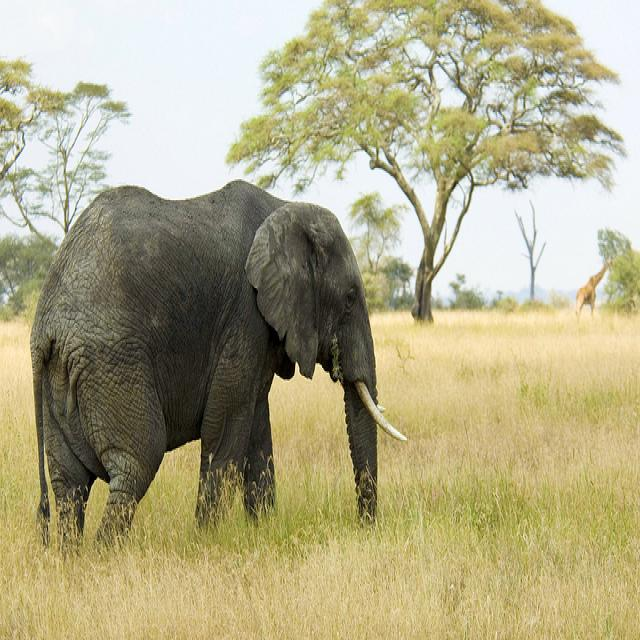Elephant: (28, 178, 408, 560)
